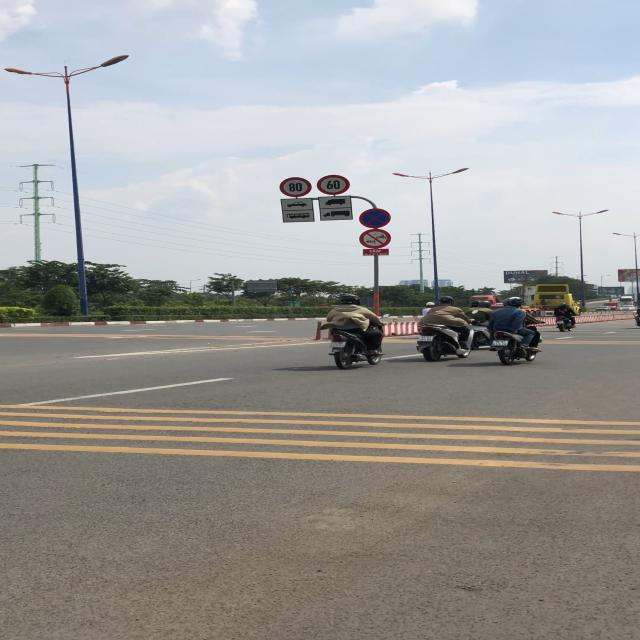Bien bao cam dung xe va do xe: (358, 208, 392, 229)
Bien bao toc do toi da cho phep: (315, 175, 353, 197), (278, 175, 313, 198)
